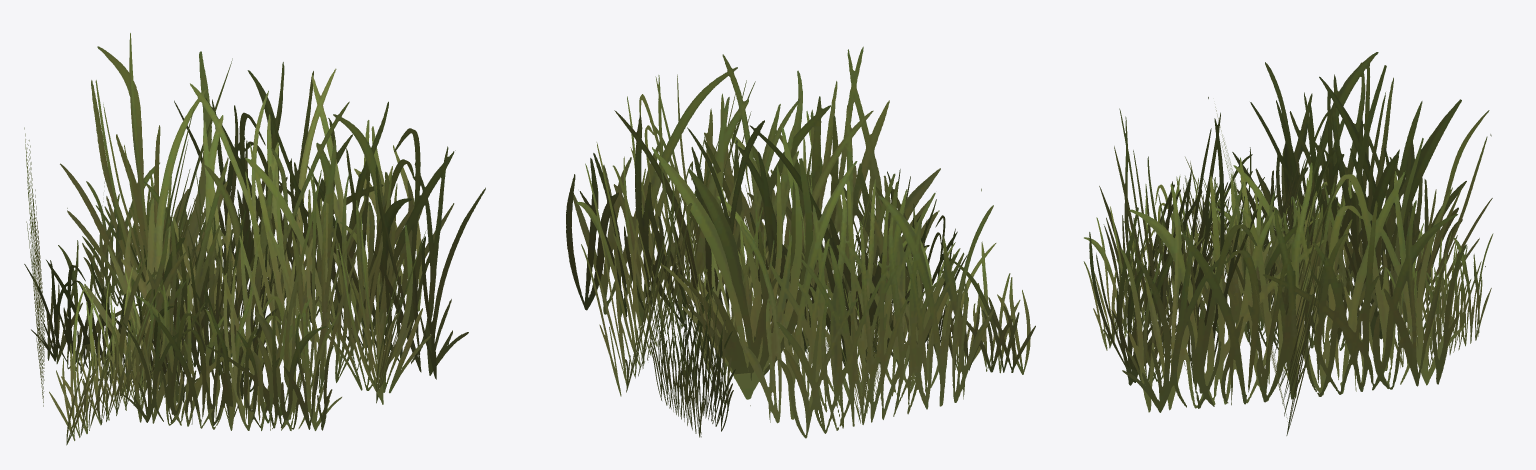
Rendered from Woodland_GrassPatch_01.fbx.
3 views of the same model, side by side, from view 1: azimuth 30°, elevation 25°; view 2: azimuth 150°, elevation 25°; view 3: azimuth 270°, elevation 25° (orthographic). The views are drawn at different scales.
Parts seen in each view (by area): view 1: Woodland_GrassPatch_01; view 2: Woodland_GrassPatch_01; view 3: Woodland_GrassPatch_01.
Boxes of the visible parts, <box> form: Woodland_GrassPatch_01: <box>24,33,485,445</box>; Woodland_GrassPatch_01: <box>566,46,1035,438</box>; Woodland_GrassPatch_01: <box>1083,52,1493,435</box>.
Size of the model in its own units: 79.06 by 44.39 by 71.43.
Materials: 1 (1 with a texture image).
